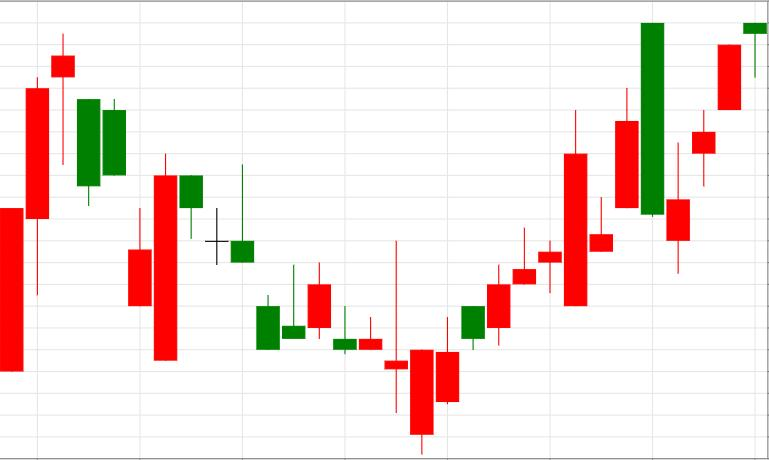bearish_engulfing_fall: (488, 23, 664, 347)
evening_star_fall: (1, 34, 100, 372)
